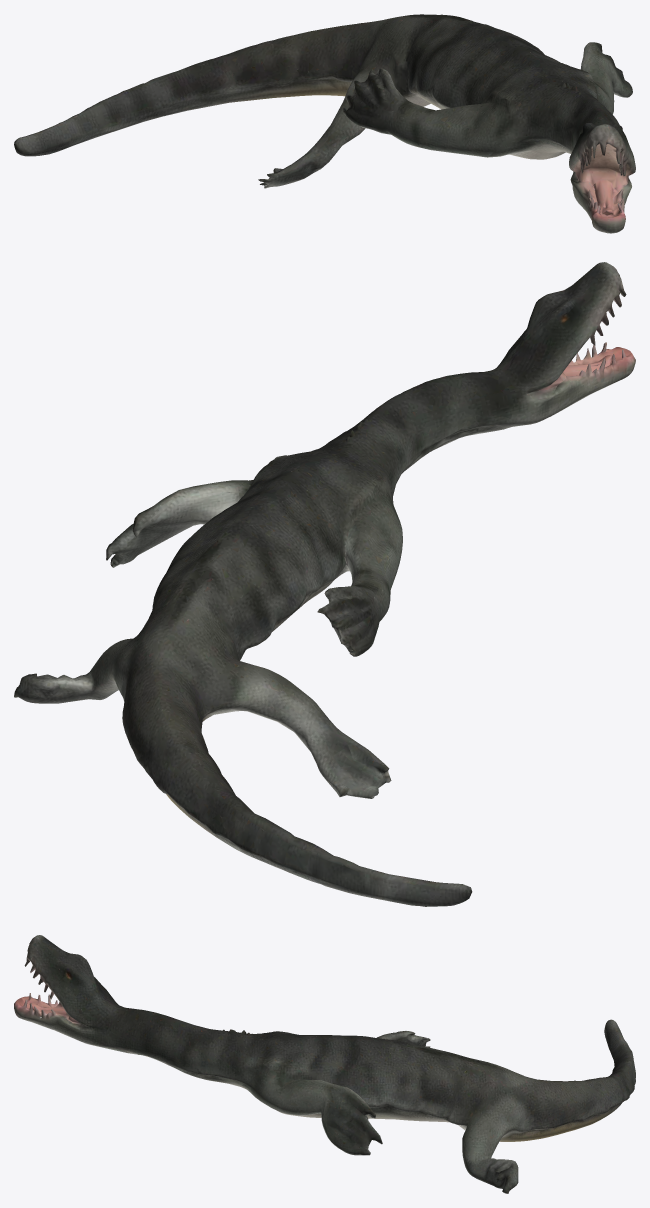
Rendered from Nothosaurus_Sp.glb.
3 views of the same model, one above another, from view 1: azimuth 30°, elevation 25°; view 2: azimuth 150°, elevation 25°; view 3: azimuth 270°, elevation 25° (orthographic). The views are drawn at different scales.
Visible parts, largest first — view 1: Nothosaurus_Sp; view 2: Nothosaurus_Sp; view 3: Nothosaurus_Sp.
Part boxes in pixels (bbox=[...]): Nothosaurus_Sp: bbox=[14, 14, 635, 233]; Nothosaurus_Sp: bbox=[14, 262, 635, 906]; Nothosaurus_Sp: bbox=[14, 935, 635, 1193].
Bounding box in the file's own units: 3.5 × 1.78 × 5.07.
1 material, 1 textured.
